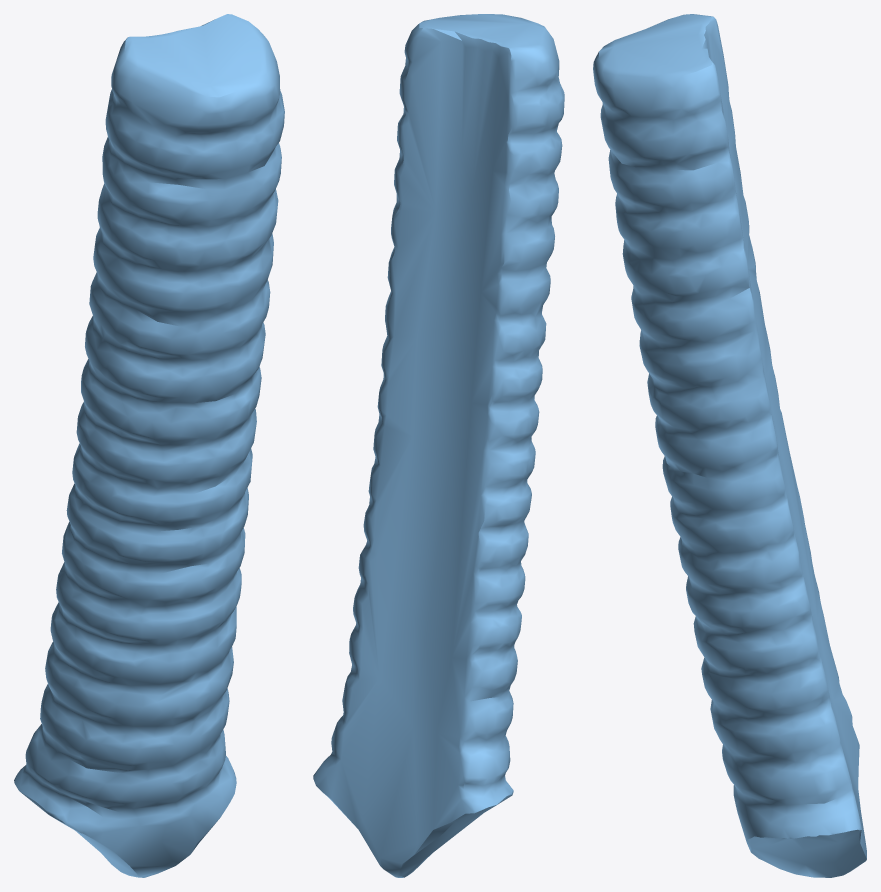
Rendered from trakea.glb.
3 renders of one model, left to right at view 1: azimuth 30°, elevation 25°; view 2: azimuth 150°, elevation 25°; view 3: azimuth 270°, elevation 25°, orthographic. The views are drawn at different scales.
Parts seen in each view (by area): view 1: FJ2541_BP9373_FMA7394_Trachea; view 2: FJ2541_BP9373_FMA7394_Trachea; view 3: FJ2541_BP9373_FMA7394_Trachea.
Part boxes in pixels (<box>): FJ2541_BP9373_FMA7394_Trachea: <box>14,14,284,877</box>; FJ2541_BP9373_FMA7394_Trachea: <box>313,14,564,877</box>; FJ2541_BP9373_FMA7394_Trachea: <box>593,14,866,877</box>.
Bounding box in the file's own units: 0.0259 × 0.1103 × 0.0328.
